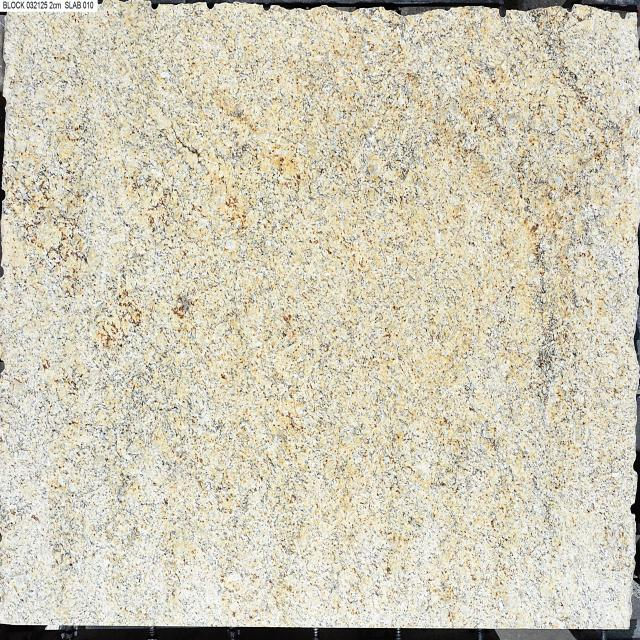chapa: (0, 4, 640, 628)
